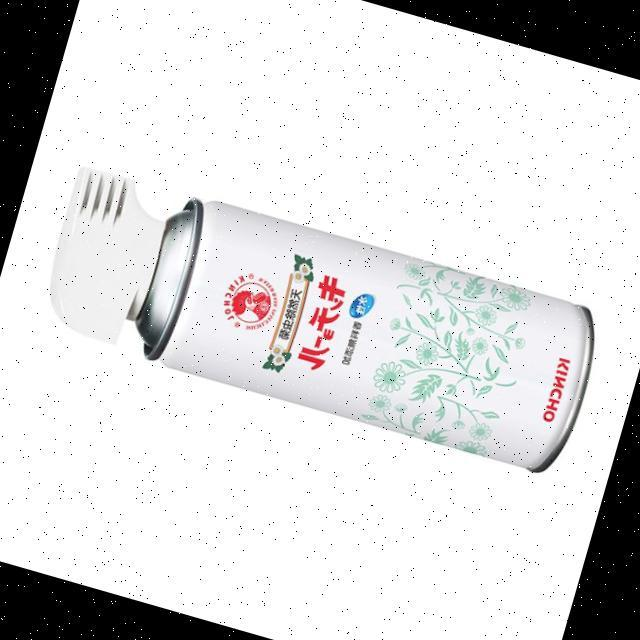chemical_spray_can: (49, 167, 594, 471)
